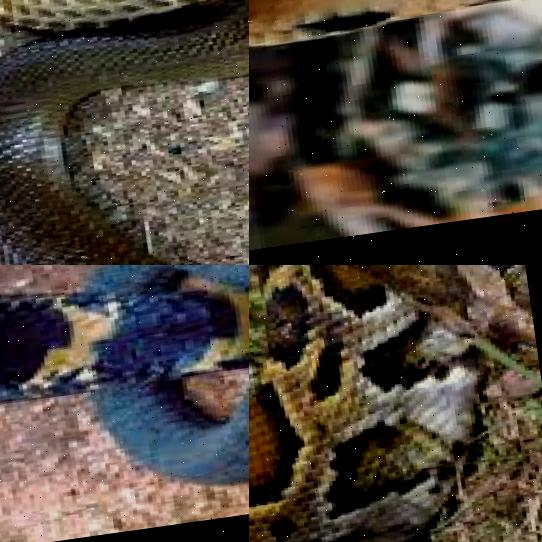1: (0, 265, 249, 542), (0, 0, 249, 265)
5: (249, 0, 542, 128)
snake: (249, 265, 542, 542)
